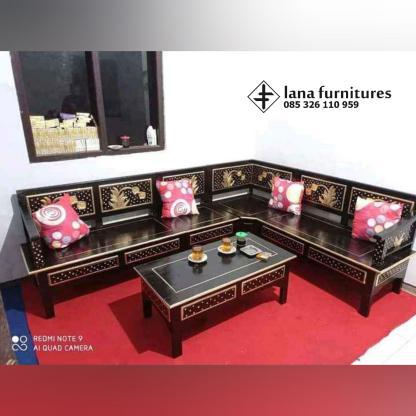bantal: (36, 204, 89, 246), (161, 179, 200, 216), (355, 198, 388, 240), (271, 180, 304, 214)
gelas: (192, 244, 205, 261), (236, 232, 247, 247), (221, 238, 232, 252)
meja: (124, 247, 301, 329)
sova: (9, 158, 413, 306)
